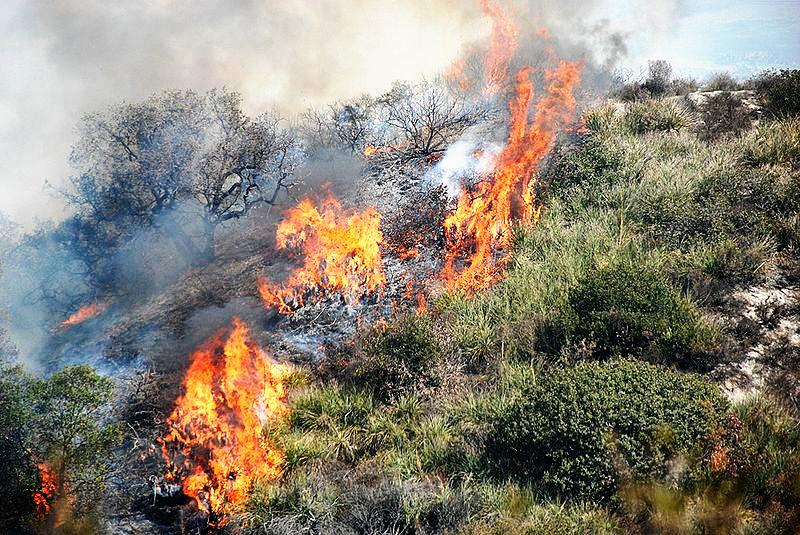fire: (430, 45, 594, 306), (169, 335, 303, 529), (248, 195, 398, 318)
